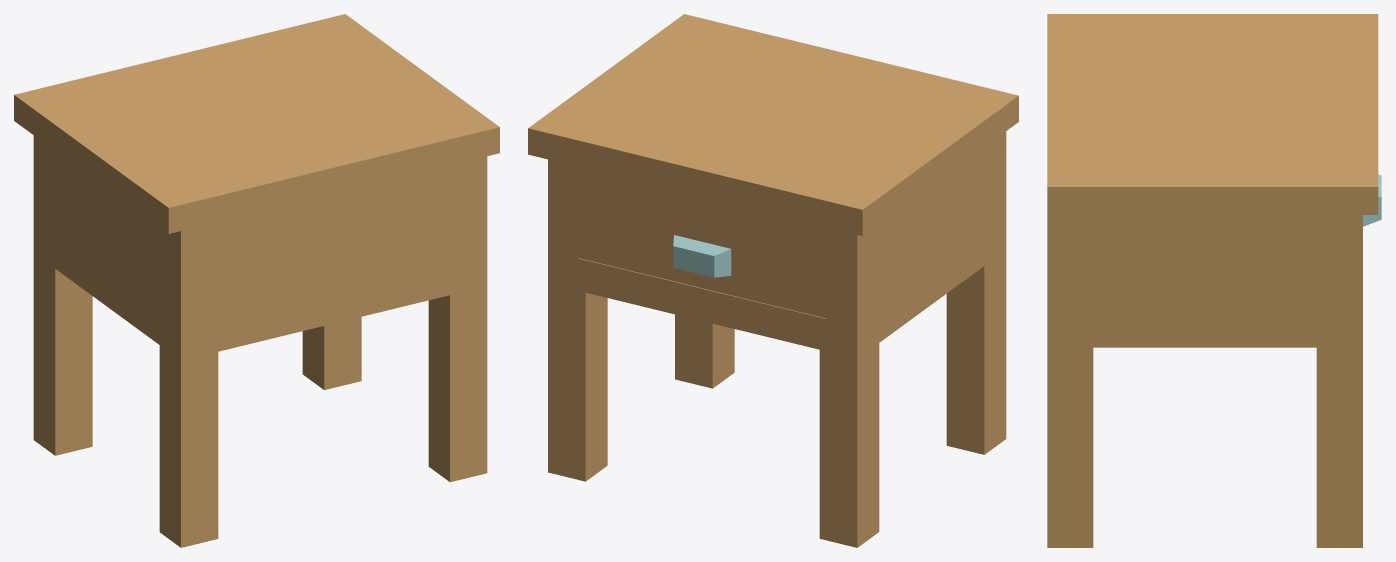
The model's file is cabinetBedDrawerTable.glb.
3 renders of one model, left to right at view 1: azimuth 30°, elevation 25°; view 2: azimuth 150°, elevation 25°; view 3: azimuth 270°, elevation 25°, orthographic. The views are drawn at different scales.
Bounding box in the file's own units: 2.66 × 2.63 × 2.17.
